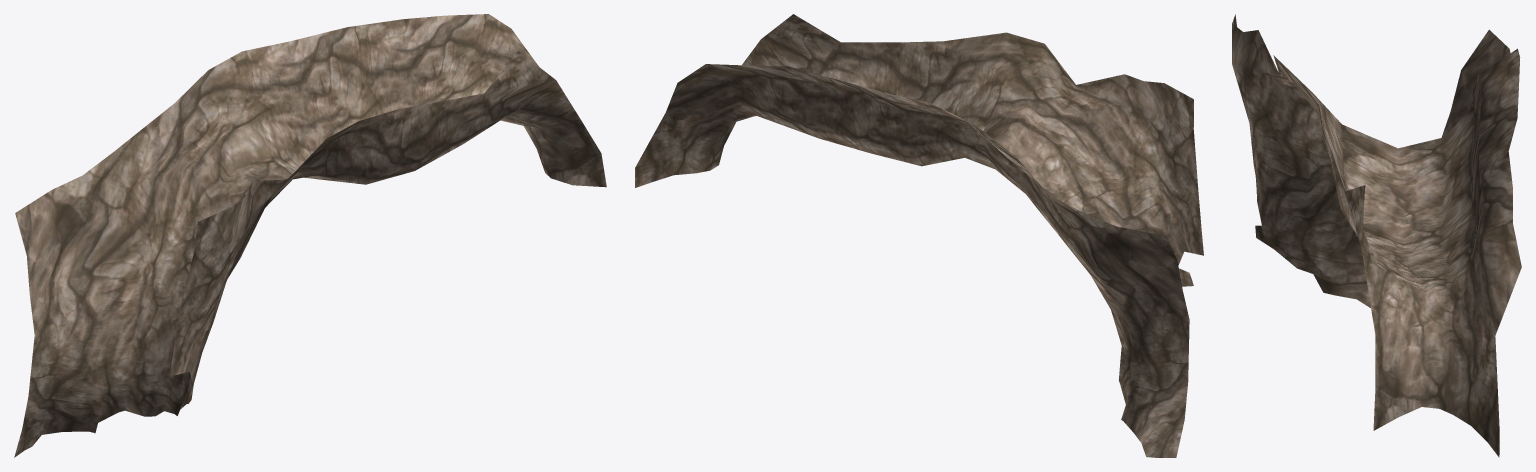
File: EKH_THRONE_PS_TH_CURVE_WALL.fbx
3 renders of one model, left to right at view 1: azimuth 30°, elevation 25°; view 2: azimuth 150°, elevation 25°; view 3: azimuth 270°, elevation 25°, orthographic. The views are drawn at different scales.
Parts seen in each view (by area): view 1: EKH_THRONE_PS_TH_CURVE_WALL; view 2: EKH_THRONE_PS_TH_CURVE_WALL; view 3: EKH_THRONE_PS_TH_CURVE_WALL.
Boxes of the visible parts, bbox=[...] form: EKH_THRONE_PS_TH_CURVE_WALL: bbox=[14, 14, 606, 457]; EKH_THRONE_PS_TH_CURVE_WALL: bbox=[635, 14, 1203, 457]; EKH_THRONE_PS_TH_CURVE_WALL: bbox=[1232, 14, 1521, 457].
Size of the model in its own units: 253889 by 141614 by 93385.
1 material, 1 textured.
